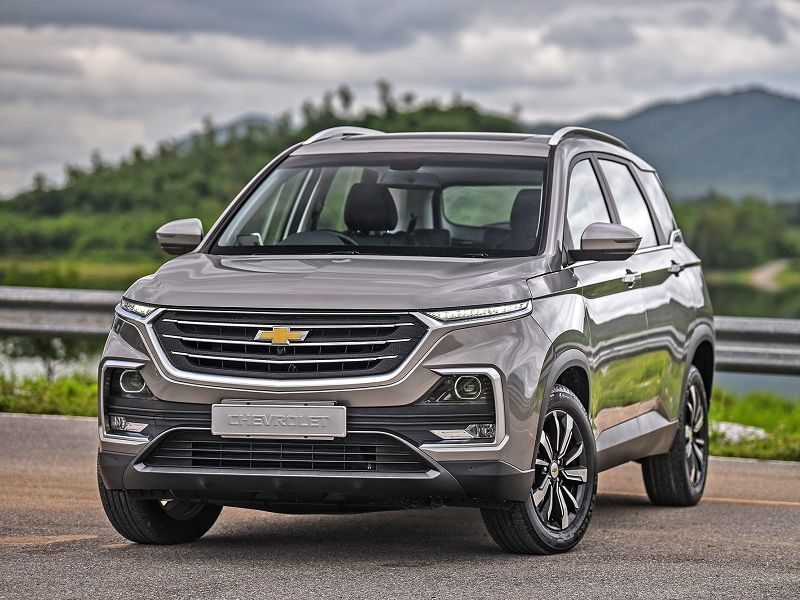pickup: (91, 123, 721, 553)
